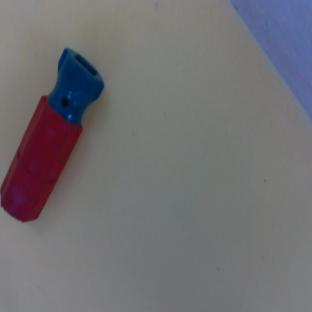part_2_good: (0, 46, 112, 227)
